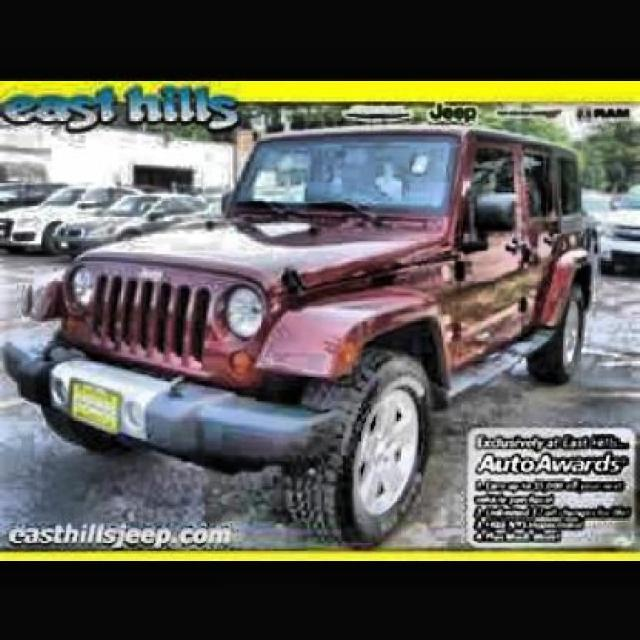maroon: (9, 127, 597, 542)
